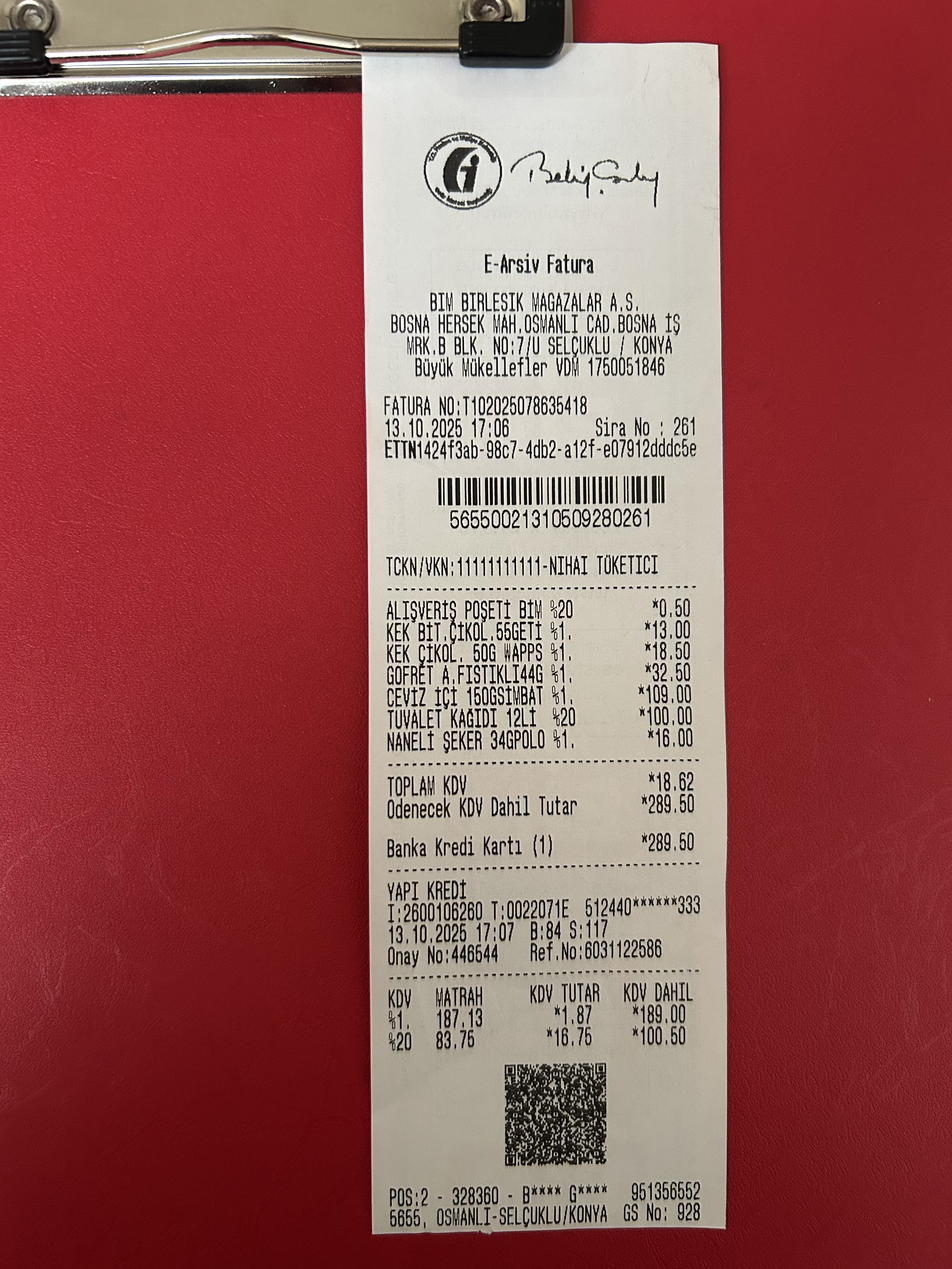date: (646, 791, 698, 817)
price: (381, 417, 464, 440)
workplace: (377, 287, 694, 357)
